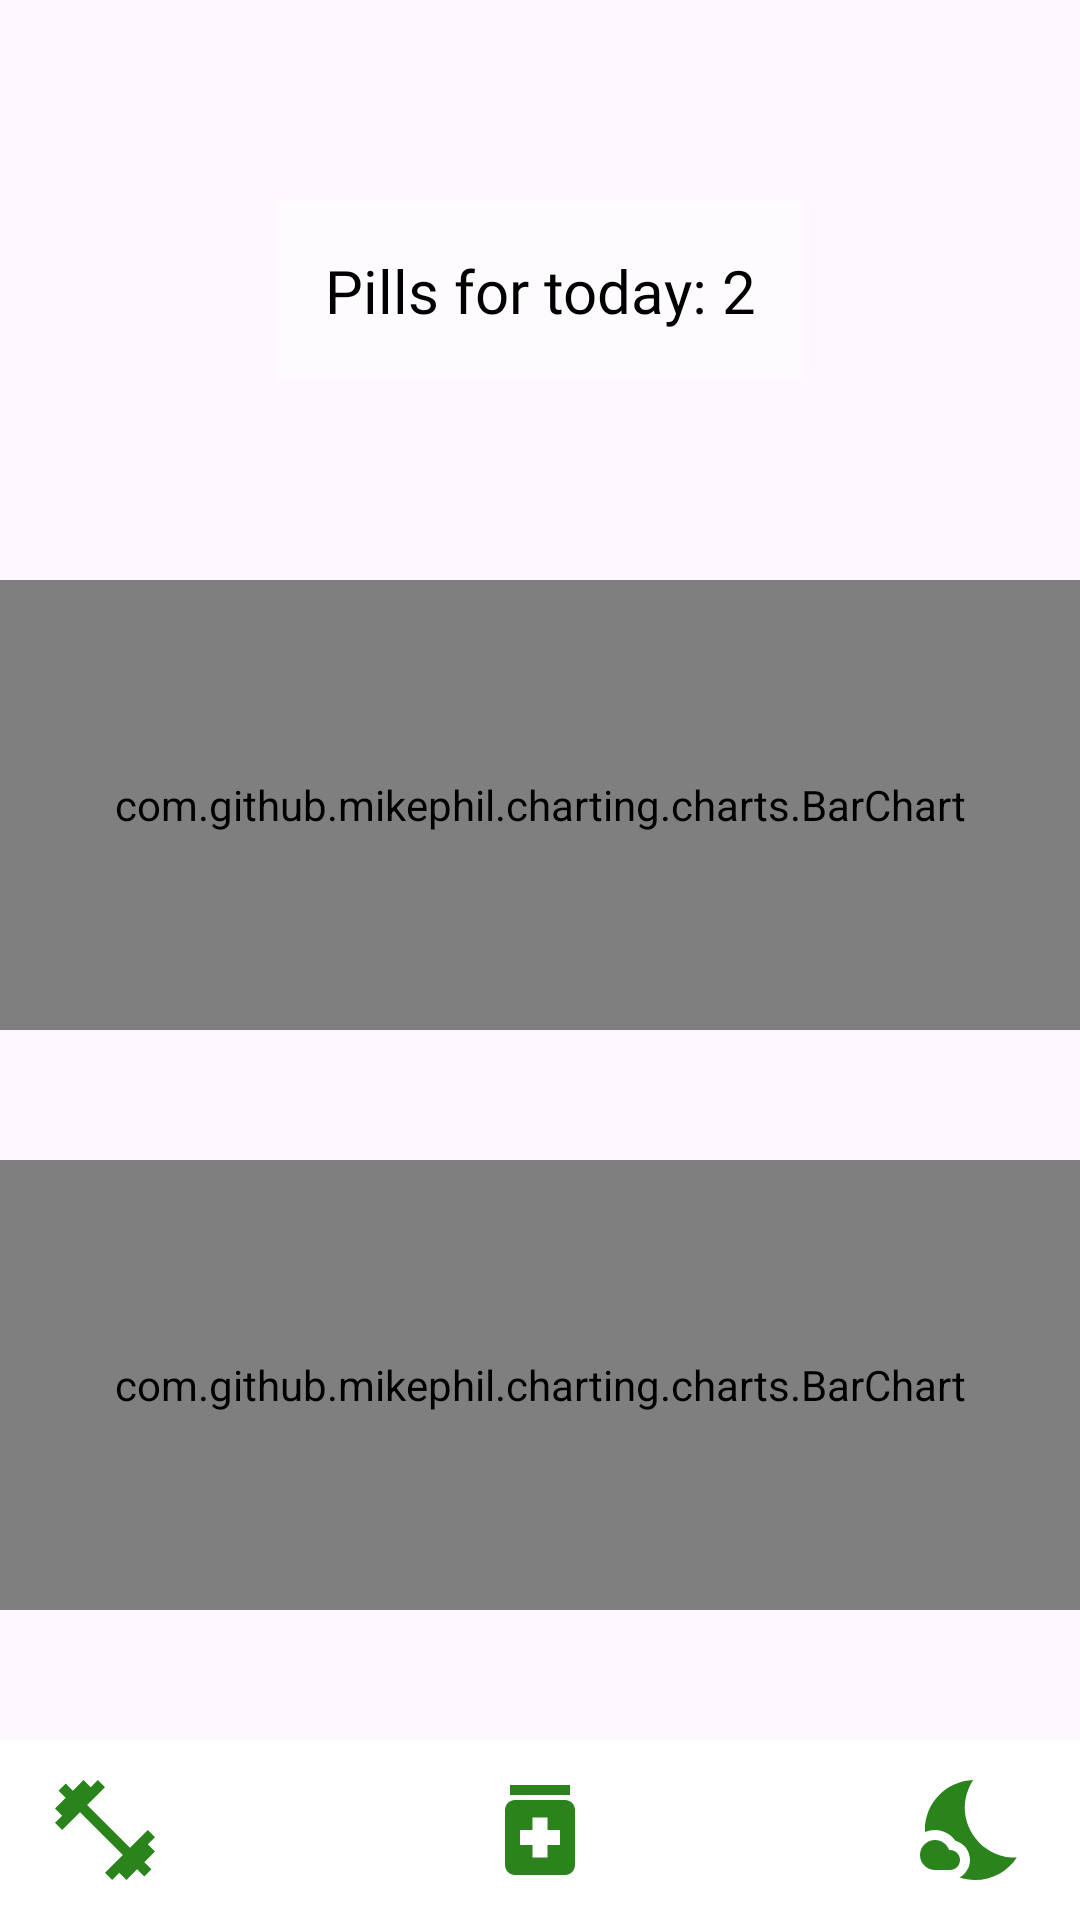

Screen size 1080x1920. Icon name, then its center in pixels as [x,y]:
fitness center: [105,1830]
medication: [540,1830]
nights stay: [968,1830]
